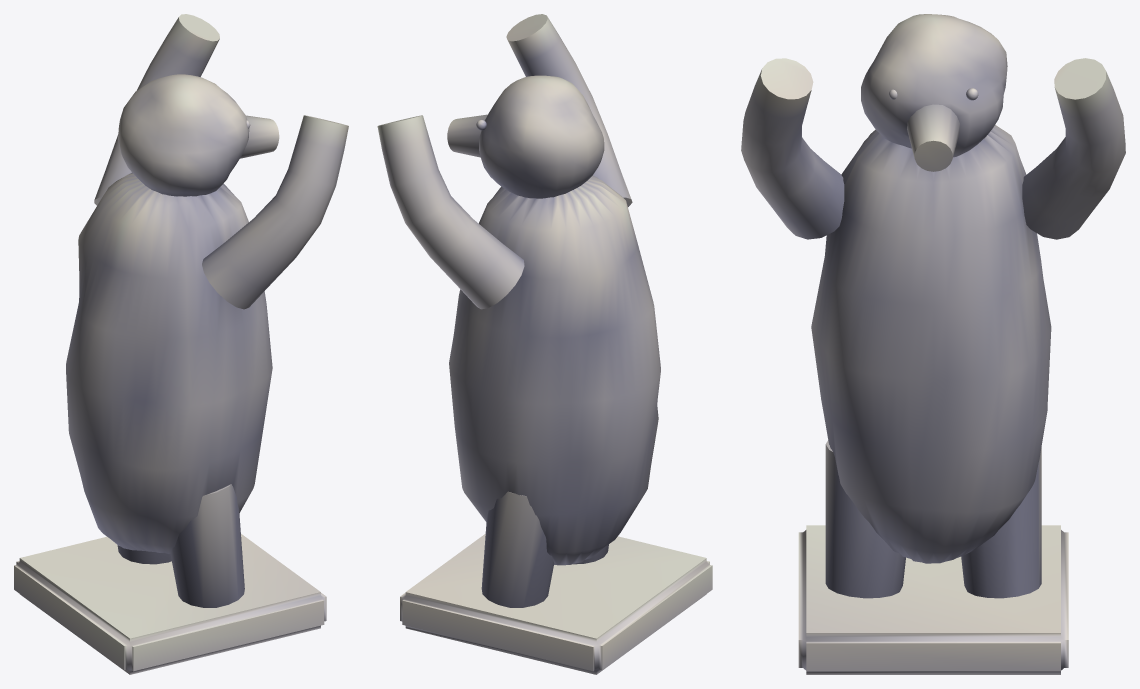
The model's file is bear-standing.glb.
The picture shows the model from 3 angles, left to right: view 1: azimuth 30°, elevation 25°; view 2: azimuth 150°, elevation 25°; view 3: azimuth 270°, elevation 25°; orthographic projection. The views are drawn at different scales.
Visible parts, largest first — view 1: body; view 2: body; view 3: body.
Boxes of the visible parts, x1,y1,x2,y2 form: body: (14, 14, 348, 674); body: (377, 14, 712, 674); body: (741, 14, 1125, 674).
Bounding box in the file's own units: 0.7339 × 1.75 × 0.9973.
